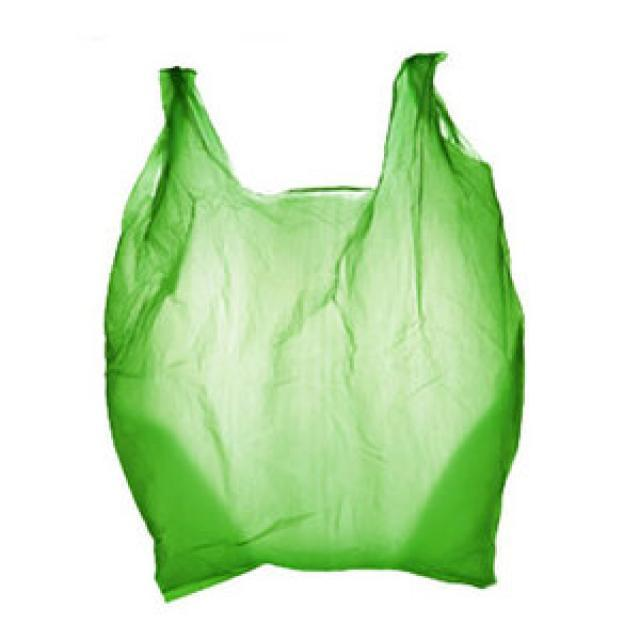Bolsa-de-plastico: (110, 60, 525, 592)
